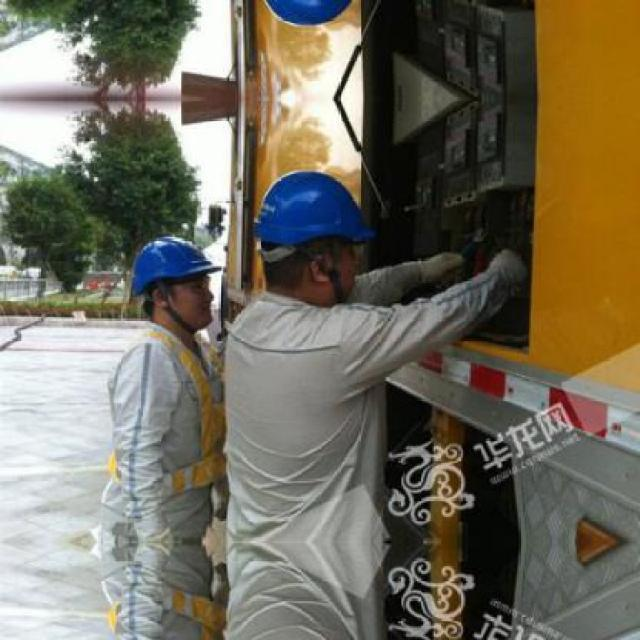helmet: (242, 153, 380, 309), (120, 223, 222, 337), (242, 0, 380, 42)
